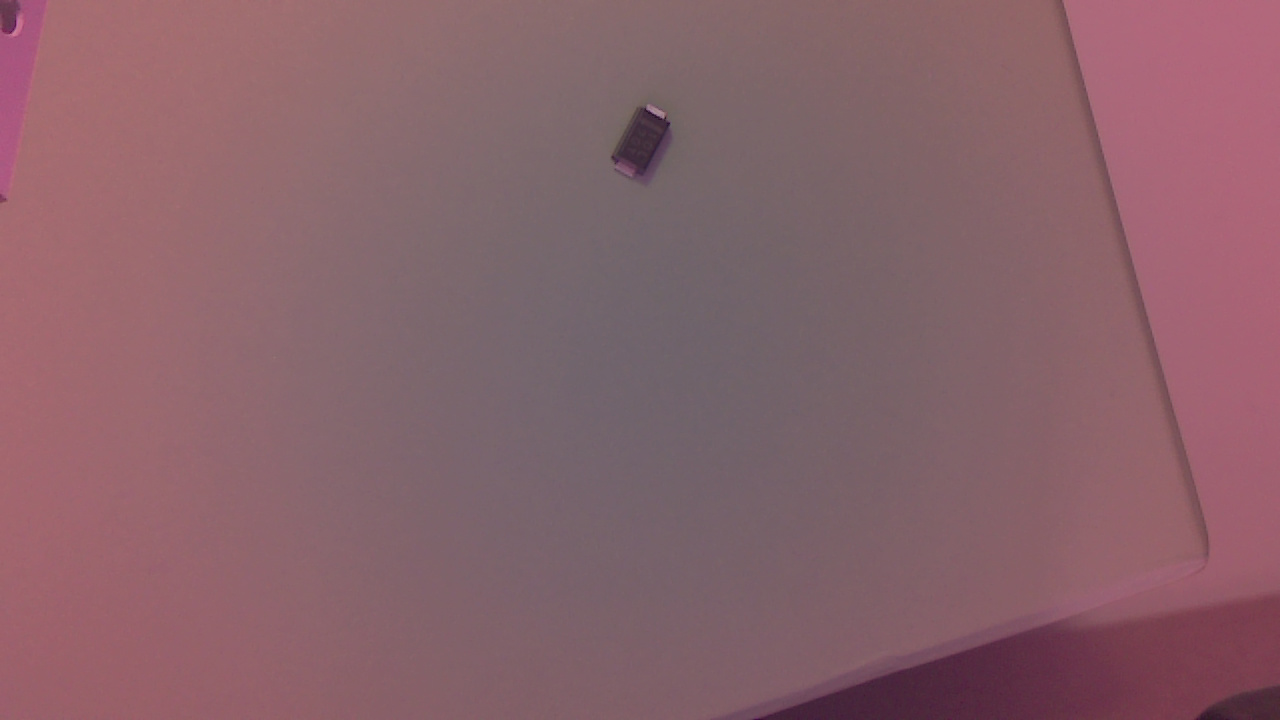Diode: (612, 104, 690, 187)
